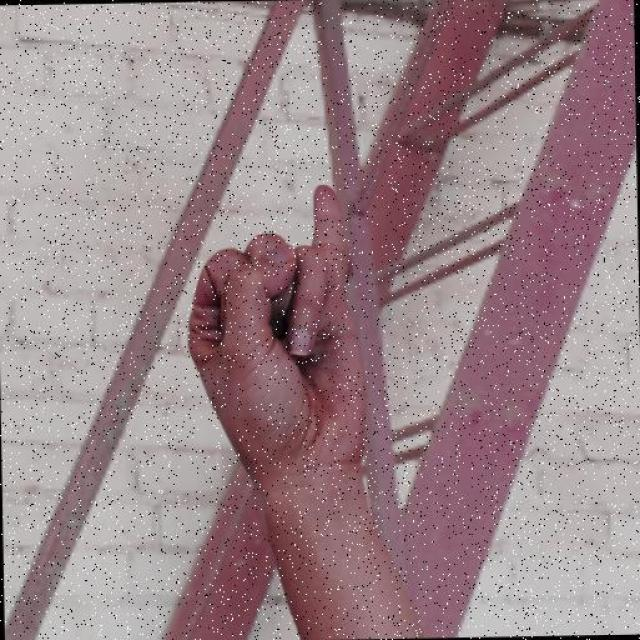I: (181, 182, 372, 488)
